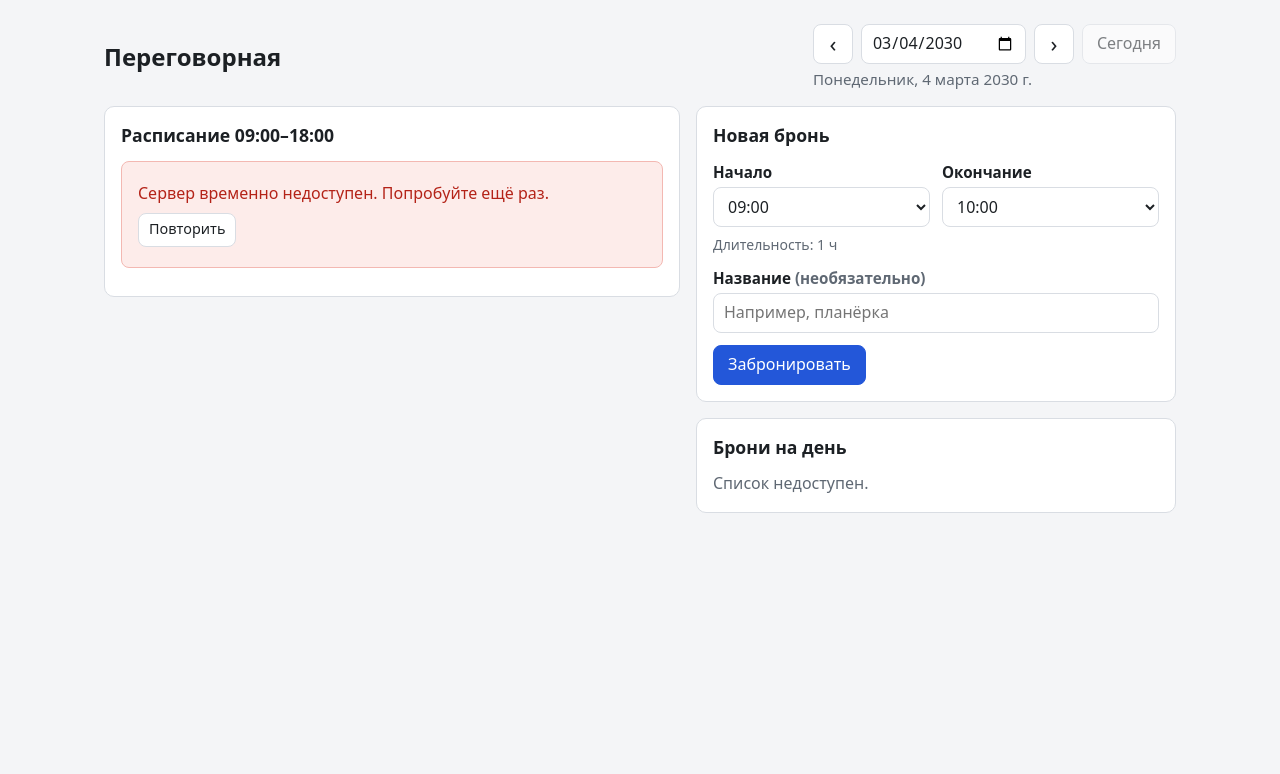
BookingPage › shows an error state with retry
The width and height of the screenshot is (1280, 774).
Expected: the text "Сервер временно недоступен. Попробуйте ещё раз." is shown, [138, 182, 549, 205]
Click the button "Повторить": (187,230) [138, 213, 236, 247]
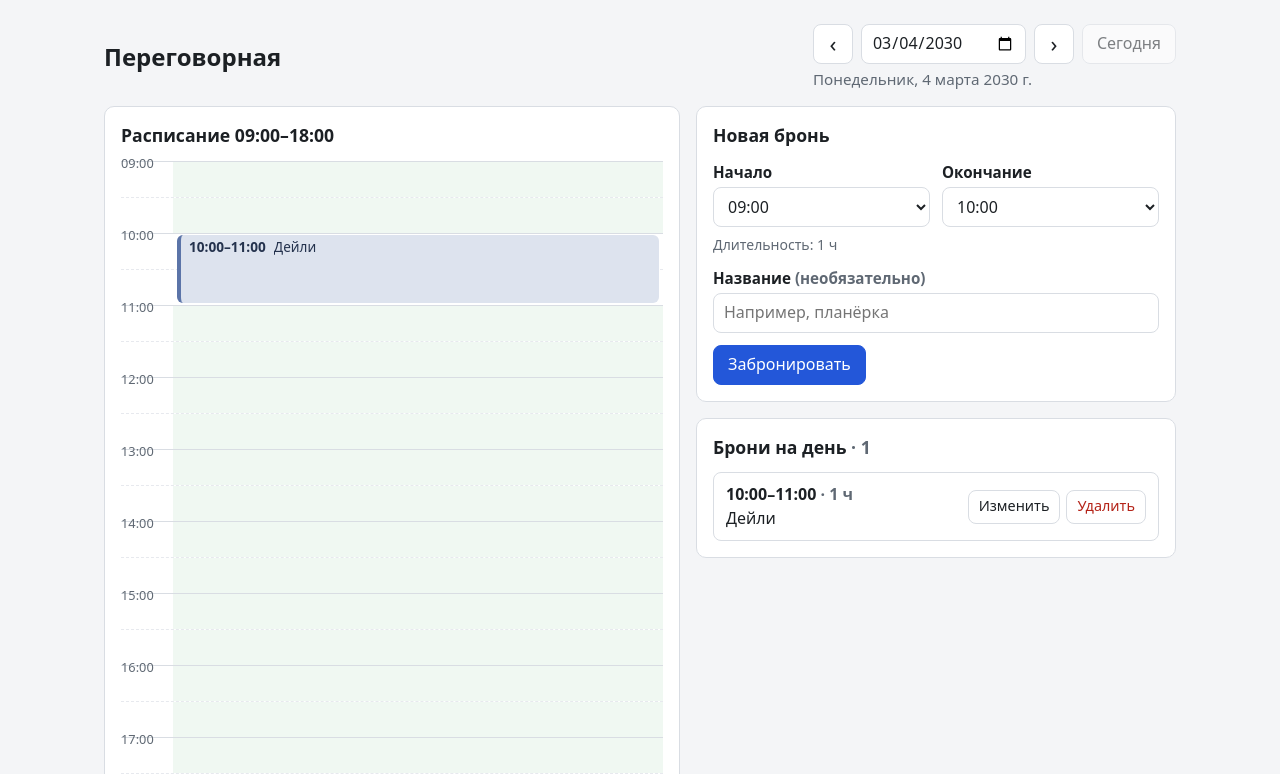
Result: the text "Дейли" below "Брони на день" is shown at [726, 507, 776, 529]
